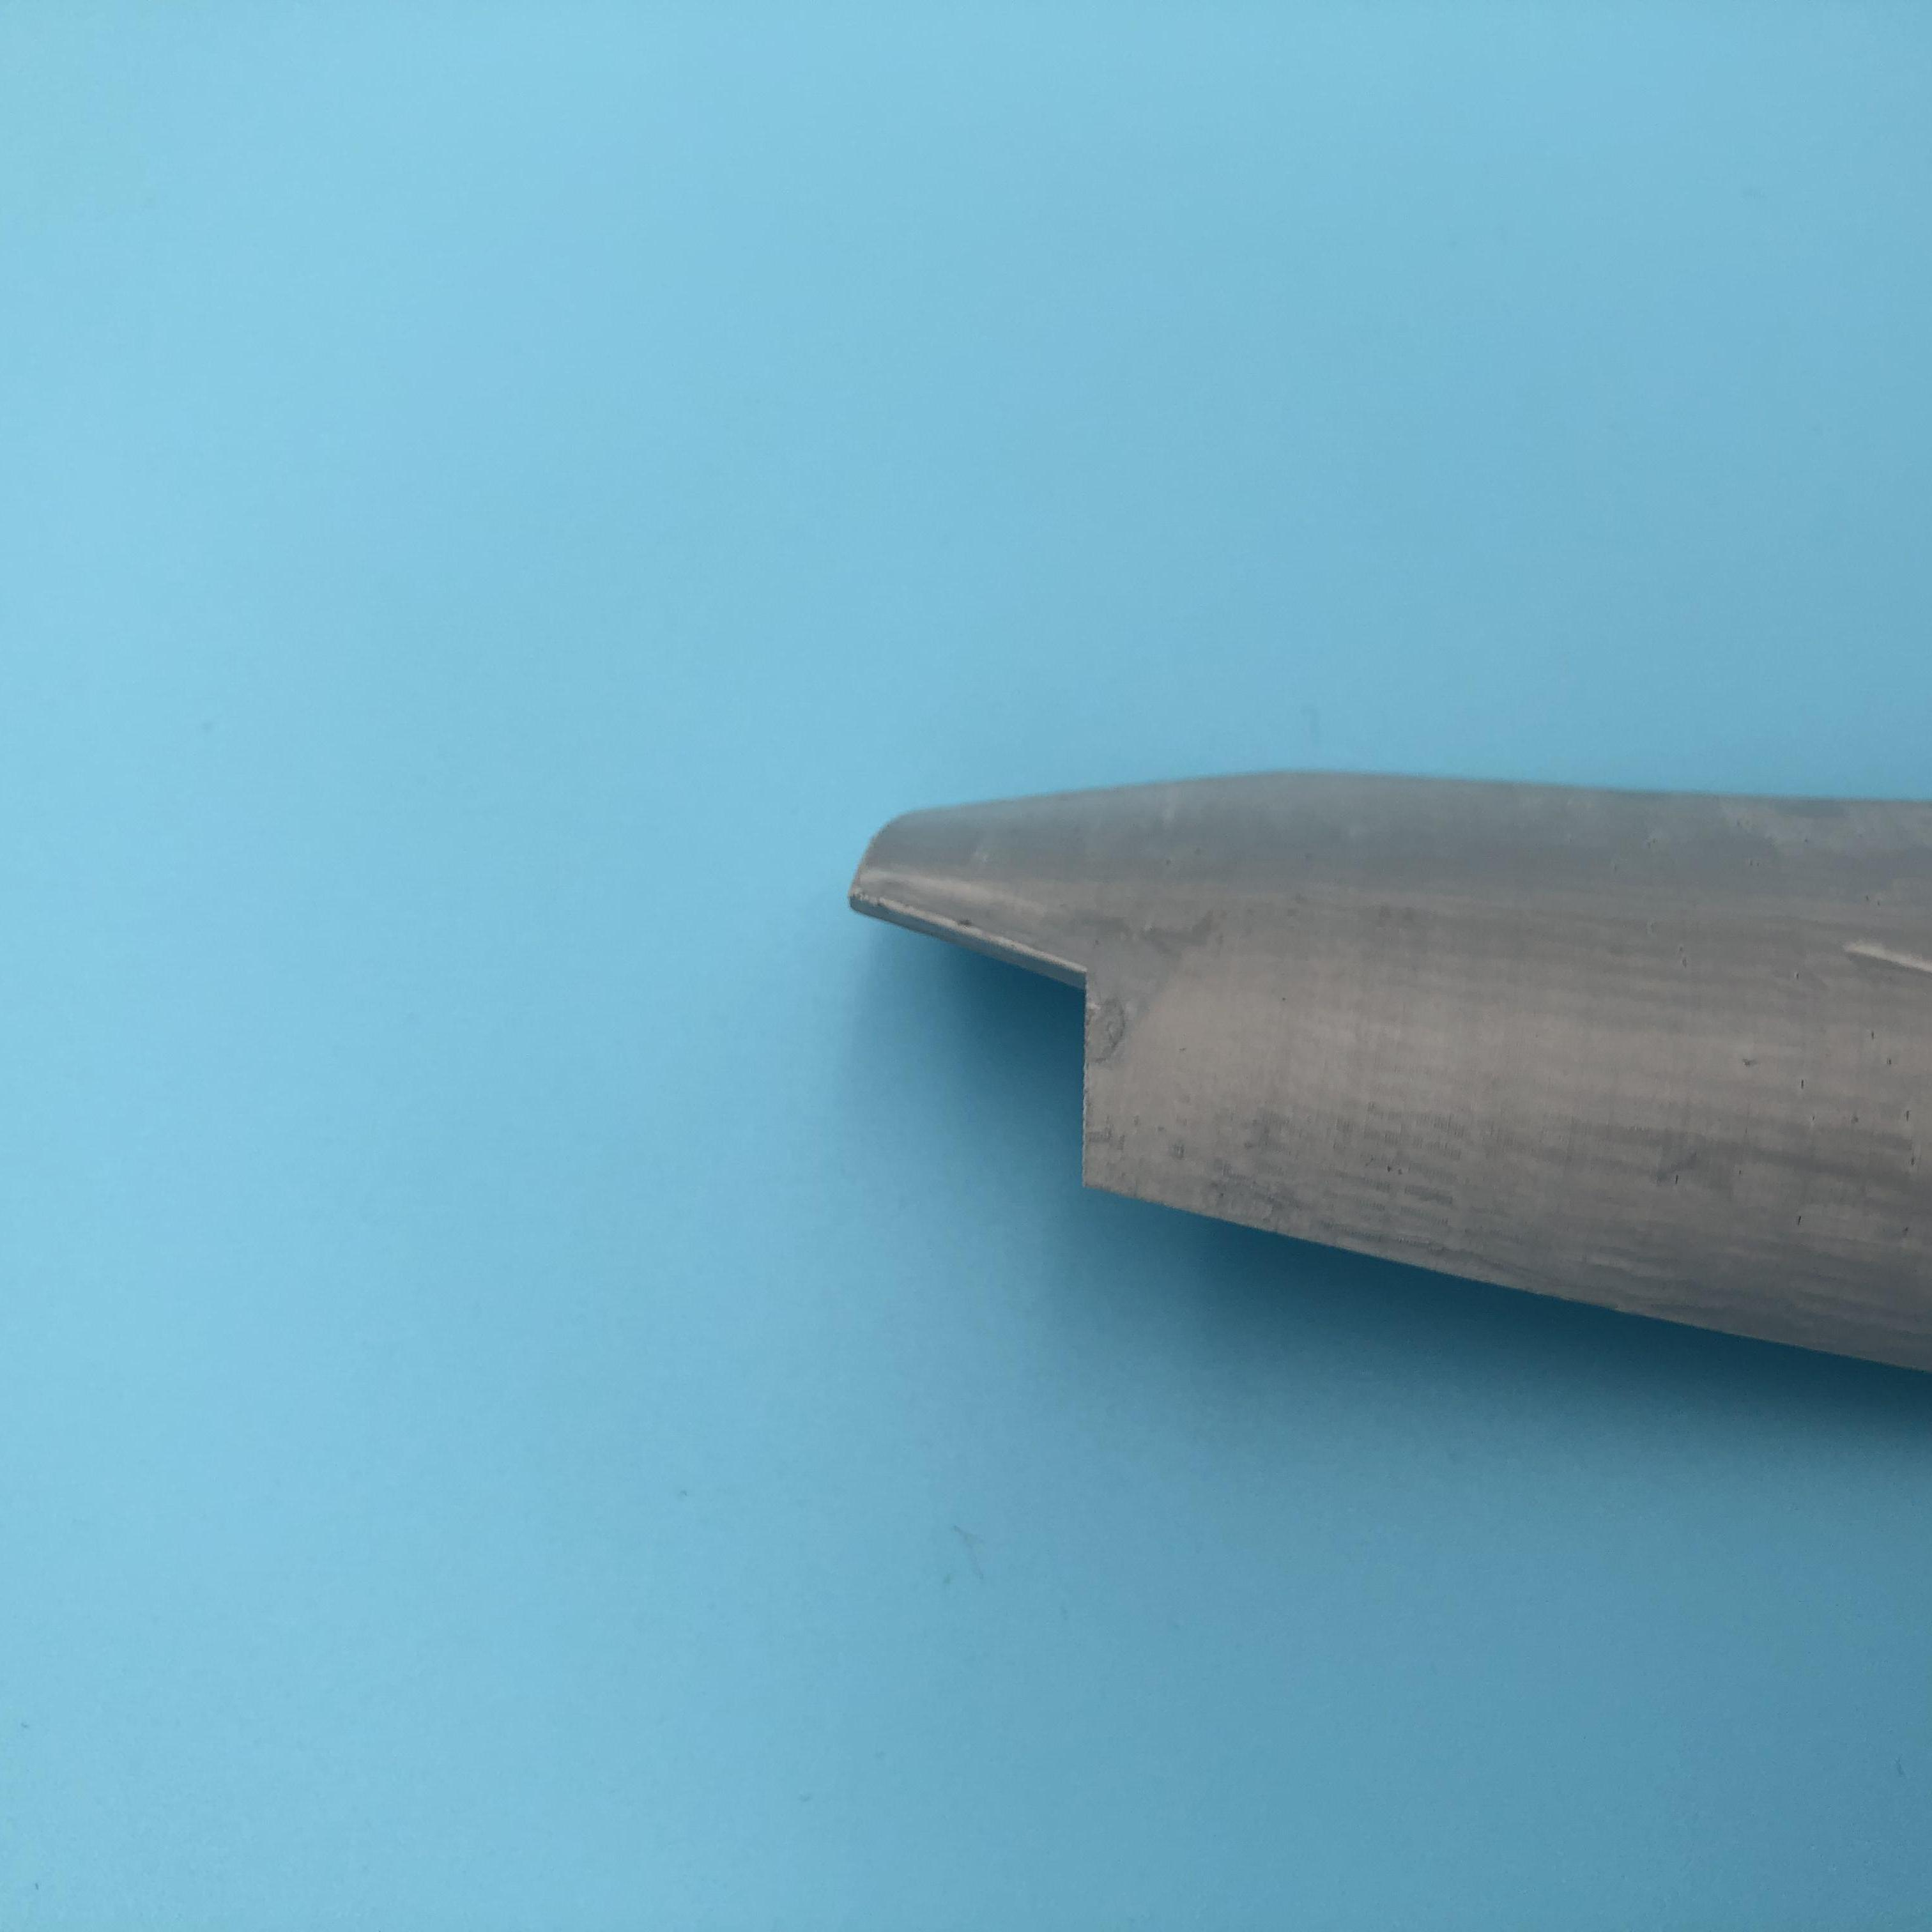fracture: (847, 865, 1134, 1189)
